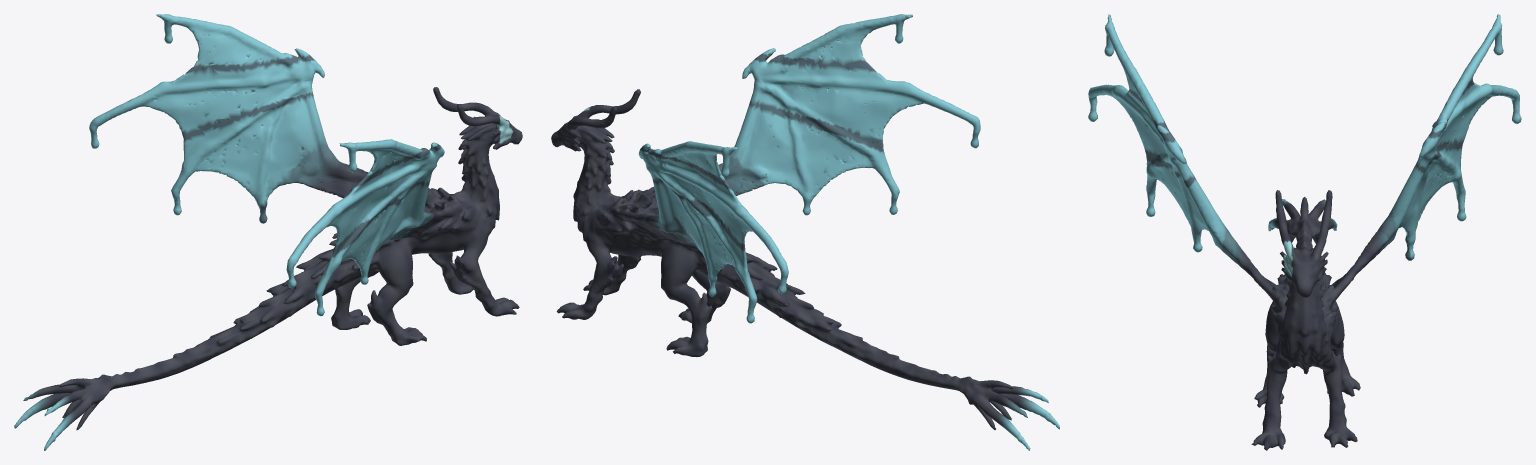
The model's file is dragon.glb.
3 renders of one model, left to right at view 1: azimuth 30°, elevation 25°; view 2: azimuth 150°, elevation 25°; view 3: azimuth 270°, elevation 25°, orthographic. The views are drawn at different scales.
Visible parts, largest first — view 1: geometry_0; view 2: geometry_0; view 3: geometry_0.
Part boxes in pixels (x1,y1,x2,y2): geometry_0: (14, 14, 522, 450); geometry_0: (551, 14, 1059, 450); geometry_0: (1088, 14, 1521, 450).
Bounding box in the file's own units: 4.04 × 2.41 × 2.84.
